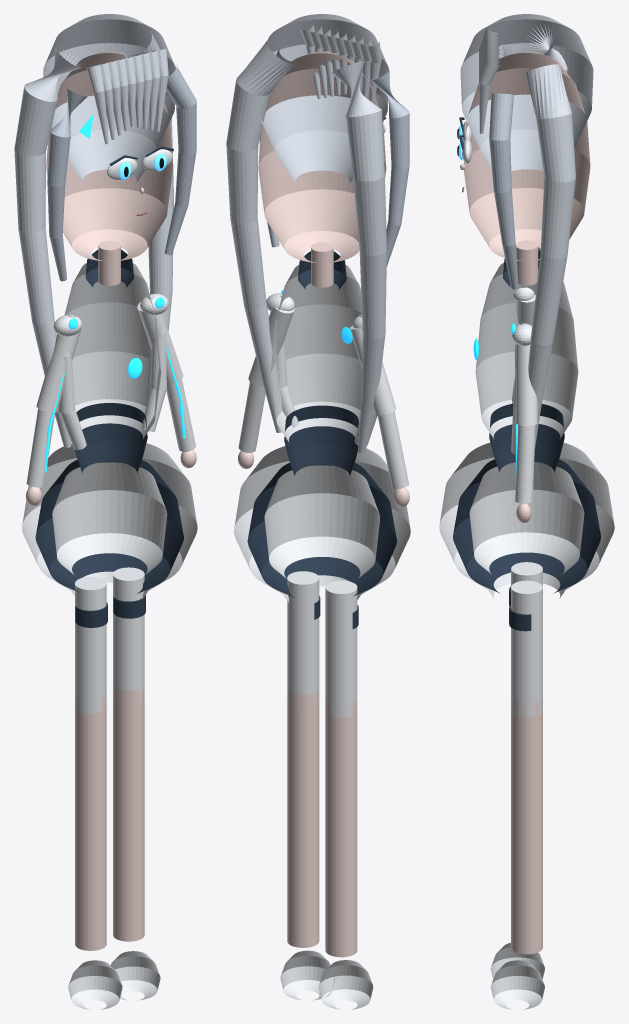
Rendered from ai_companion_character_v6.glb.
3 renders of one model, left to right at view 1: azimuth 30°, elevation 25°; view 2: azimuth 150°, elevation 25°; view 3: azimuth 270°, elevation 25°, orthographic.
Visible parts, largest first — view 1: torso, front_panel_-1, head, hair_cap, long_hair_back_-1, thigh_1, thigh_-1, underskirt, skirt, boot_-1, boot_1, waist (+25 smaller); view 2: torso, head, front_panel_-1, long_hair_back_1, long_hair_back_-1, hair_cap, thigh_1, thigh_-1, underskirt, skirt, boot_-1, boot_1 (+13 smaller); view 3: long_hair_back_1, front_panel_-1, hair_cap, head, torso, thigh_1, underskirt, skirt, boot_1, side_hair_1, waist, foot_1 (+8 smaller).
Part boxes in pixels (x1,y1,x2,y2): torso: (64, 263, 161, 439); front_panel_-1: (52, 462, 167, 574); head: (46, 51, 173, 261); hair_cap: (43, 14, 175, 182); long_hair_back_-1: (14, 47, 81, 447); thigh_1: (113, 686, 144, 941); thigh_-1: (75, 694, 106, 950); underskirt: (35, 460, 183, 594); skirt: (22, 443, 197, 598); boot_-1: (75, 576, 106, 713); boot_1: (113, 567, 144, 702); waist: (75, 403, 147, 473); torso: (270, 264, 361, 443); head: (258, 51, 386, 262); front_panel_-1: (264, 465, 380, 579); long_hair_back_1: (226, 41, 295, 432); long_hair_back_-1: (330, 61, 386, 453); hair_cap: (258, 14, 389, 183); thigh_1: (287, 689, 319, 947); thigh_-1: (325, 699, 357, 957); underskirt: (247, 463, 396, 597); skirt: (234, 446, 410, 602); boot_-1: (325, 580, 357, 718); boot_1: (287, 571, 319, 708); long_hair_back_1: (524, 64, 575, 449); front_panel_-1: (469, 462, 584, 574); hair_cap: (460, 14, 593, 171); head: (463, 51, 590, 260); torso: (475, 263, 578, 439); thigh_1: (511, 697, 542, 954); underskirt: (453, 459, 600, 592); skirt: (439, 442, 614, 598); boot_1: (511, 580, 542, 717); side_hair_1: (489, 93, 518, 289); waist: (489, 403, 564, 472); foot_1: (490, 960, 544, 1009).
Bounding box in the file's own units: 1.29 × 7.06 × 1.16.
